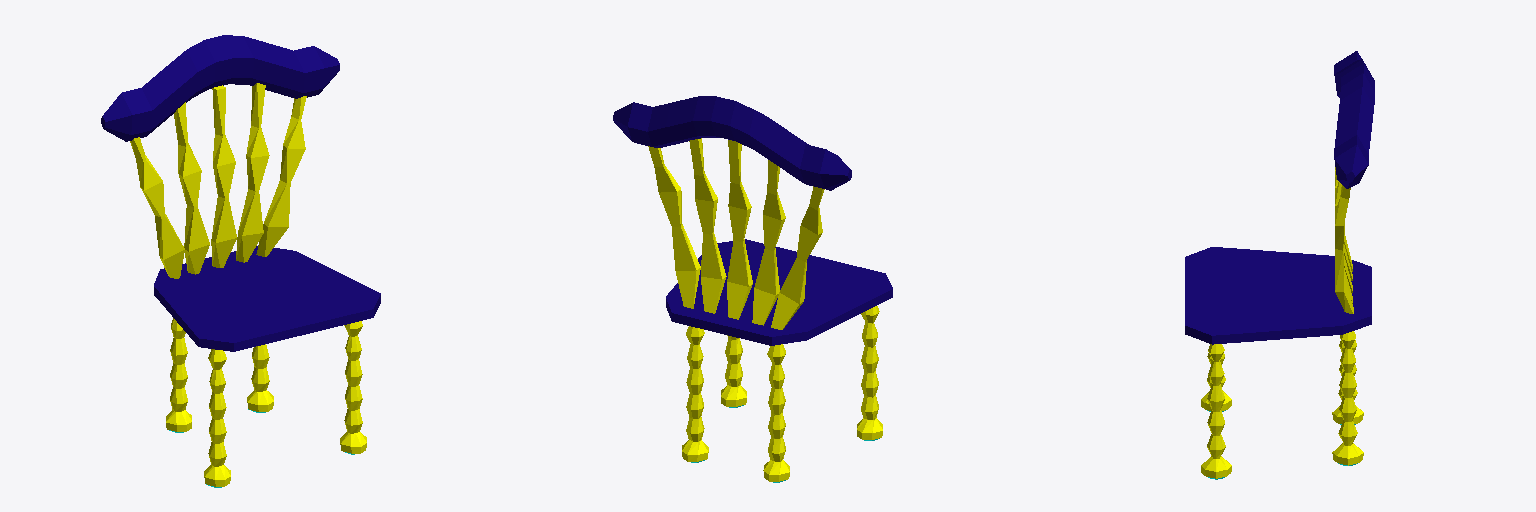
Rendered from Chair_Fixed.obj.
The picture shows the model from 3 angles: view 1: azimuth 30°, elevation 25°; view 2: azimuth 150°, elevation 25°; view 3: azimuth 270°, elevation 25°; orthographic projection.
Parts seen in each view (by area): view 1: ChairSeat, ChairSeat Back1 Back2 Back3 Back4 Back5, ChairSeat ChairTop, ChairSeat Leg4 Leg1 Leg3 Leg2; view 2: ChairSeat Back1 Back2 Back3 Back4 Back5, ChairSeat, ChairSeat ChairTop, ChairSeat Leg4 Leg1 Leg3 Leg2; view 3: ChairSeat, ChairSeat Leg4 Leg1 Leg3 Leg2, ChairSeat ChairTop, ChairSeat Back1 Back2 Back3 Back4 Back5.
Part boxes in pixels (x1,y1,x2,y2): ChairSeat: (154, 246, 380, 351); ChairSeat Back1 Back2 Back3 Back4 Back5: (130, 83, 306, 278); ChairSeat ChairTop: (101, 35, 339, 141); ChairSeat Leg4 Leg1 Leg3 Leg2: (166, 318, 366, 487); ChairSeat Back1 Back2 Back3 Back4 Back5: (648, 138, 824, 329); ChairSeat: (666, 239, 892, 345); ChairSeat ChairTop: (613, 96, 851, 190); ChairSeat Leg4 Leg1 Leg3 Leg2: (682, 306, 882, 482); ChairSeat: (1185, 247, 1371, 344); ChairSeat Leg4 Leg1 Leg3 Leg2: (1201, 331, 1363, 479); ChairSeat ChairTop: (1334, 51, 1374, 188); ChairSeat Back1 Back2 Back3 Back4 Back5: (1335, 167, 1353, 313).
Bounding box in the file's own units: 8.64 × 13.2 × 6.07.